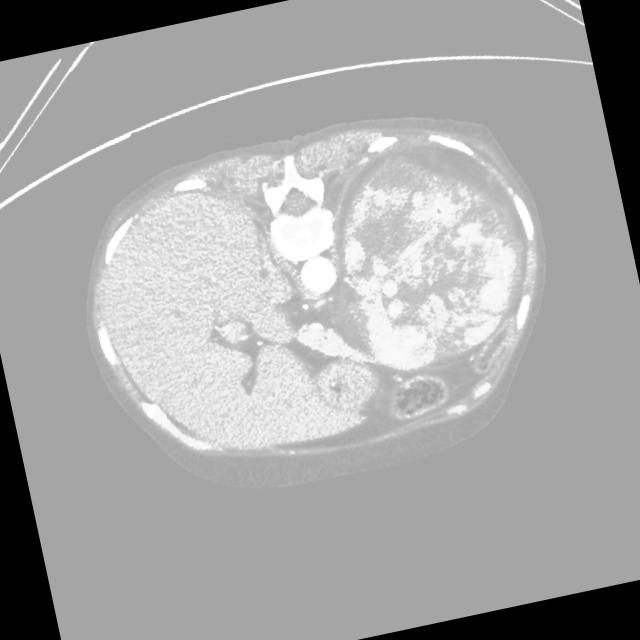TUMOR: (305, 157, 567, 357), (292, 246, 464, 393)
